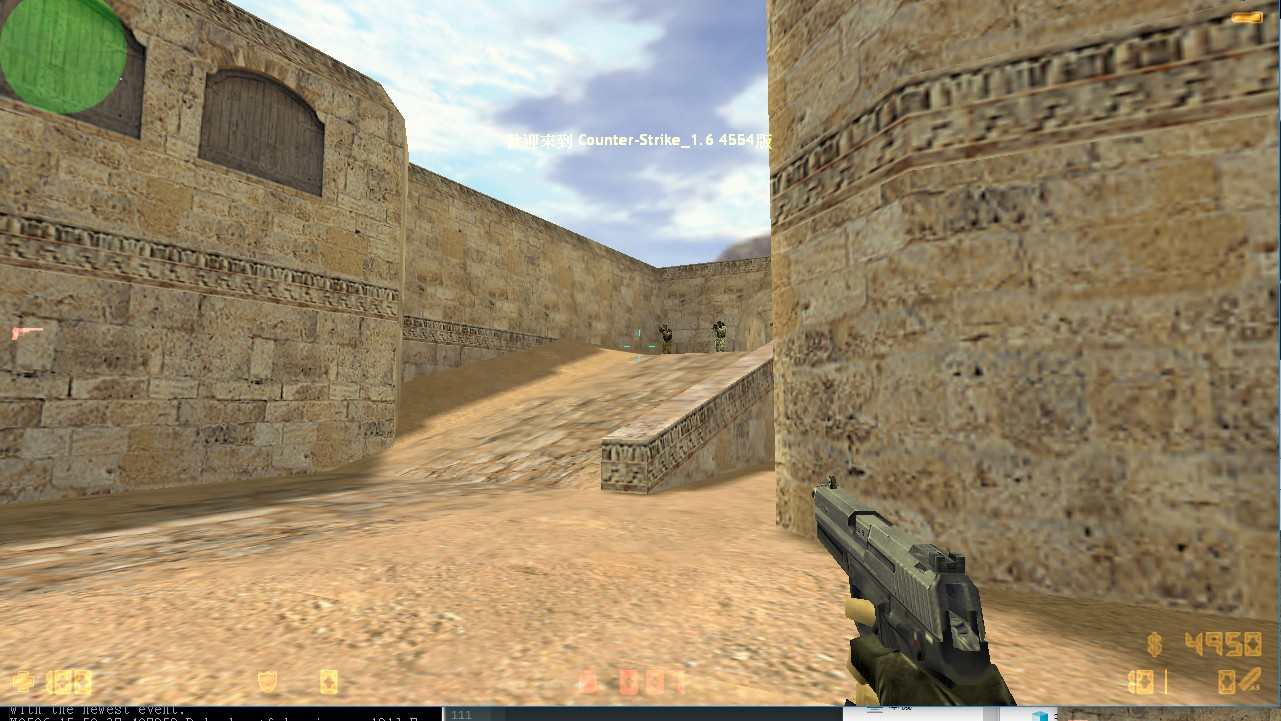person: (711, 319, 727, 352), (656, 322, 672, 354)
